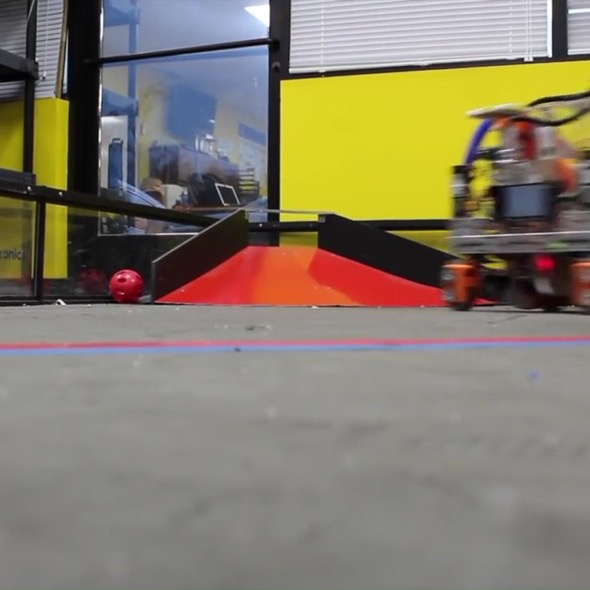ball: (105, 266, 150, 304)
robot: (445, 85, 590, 322)
